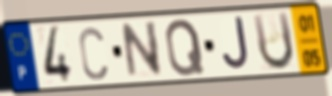4: (42, 23, 75, 87)
C: (76, 25, 110, 83)
J: (220, 15, 252, 73)
N: (119, 19, 164, 81)
Q: (163, 17, 207, 79)
U: (250, 9, 296, 73)
